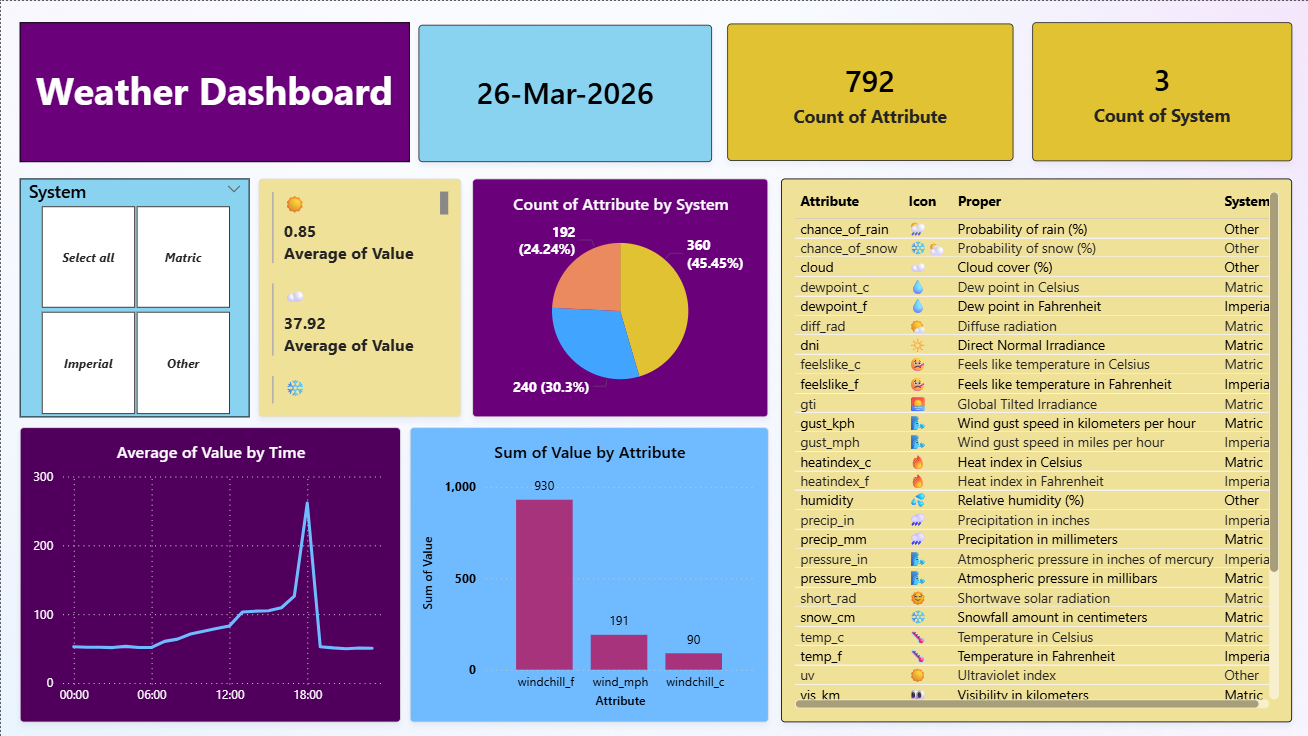

What the dashboard file says about the page in this screenshot:
{"tool":"powerbi","page":{"name":"Page 1","canvas":[1280,720],"ordinal":0},"visuals":[{"type":"card","fields":{"Values":["Min(forecastday.D)"]},"box":[408.4,23.2,287.4,134.5],"z":0},{"type":"slicer","fields":{"Values":["forecastday.System"]},"box":[18.3,173.6,225,233.6],"z":1000},{"type":"multiRowCard","fields":{"Values":["forecastday.Icon","Avg(forecastday.Value)"]},"box":[251.9,173.6,198.1,233.6],"z":1001},{"type":"lineChart","fields":{"Y":["Avg(forecastday.Value)"],"Category":["forecastday.T"]},"box":[18.3,417,373,288.6],"z":1003},{"type":"pieChart","fields":{"Category":["forecastday.System"],"Y":["CountNonNull(forecastday.Attribute)"]},"box":[461,173.6,289.8,233.6],"z":1004},{"type":"card","fields":{"Values":["CountNonNull(forecastday.Attribute)"]},"box":[710.5,22,280,134.5],"z":1005},{"type":"card","fields":{"Values":["Count(forecastday.System)"]},"box":[1008.8,20.8,254.3,135.7],"z":1006},{"type":"clusteredColumnChart","fields":{"Category":["forecastday.Attribute"],"Y":["Sum(forecastday.Value)"]},"box":[399.9,417,351,288.6],"z":1007},{"type":"textbox","box":[18.3,20.8,381.5,137],"z":1008},{"type":"tableEx","fields":{"Values":["forecastday.Attribute","forecastday.Icon","forecastday.Proper","forecastday.System"]},"box":[763,173.6,500.1,531.9],"z":1009}]}

Visuals, with their boxes in screenshot pixels (x1, y1, x2, y2), scaled from the page's 1280x720 canvas onto the 1308x736 screenshot:
card - Min(forecastday.D): BBox(417, 24, 711, 161)
slicer - forecastday.System: BBox(19, 177, 249, 416)
multiRowCard - forecastday.Icon x Avg(forecastday.Value): BBox(257, 177, 460, 416)
lineChart - Avg(forecastday.Value) x forecastday.T: BBox(19, 426, 400, 721)
pieChart - forecastday.System x CountNonNull(forecastday.Attribute): BBox(471, 177, 767, 416)
card - CountNonNull(forecastday.Attribute): BBox(726, 22, 1012, 160)
card - Count(forecastday.System): BBox(1031, 21, 1291, 160)
clusteredColumnChart - forecastday.Attribute x Sum(forecastday.Value): BBox(409, 426, 767, 721)
textbox: BBox(19, 21, 409, 161)
tableEx - forecastday.Attribute x forecastday.Icon: BBox(780, 177, 1291, 721)
